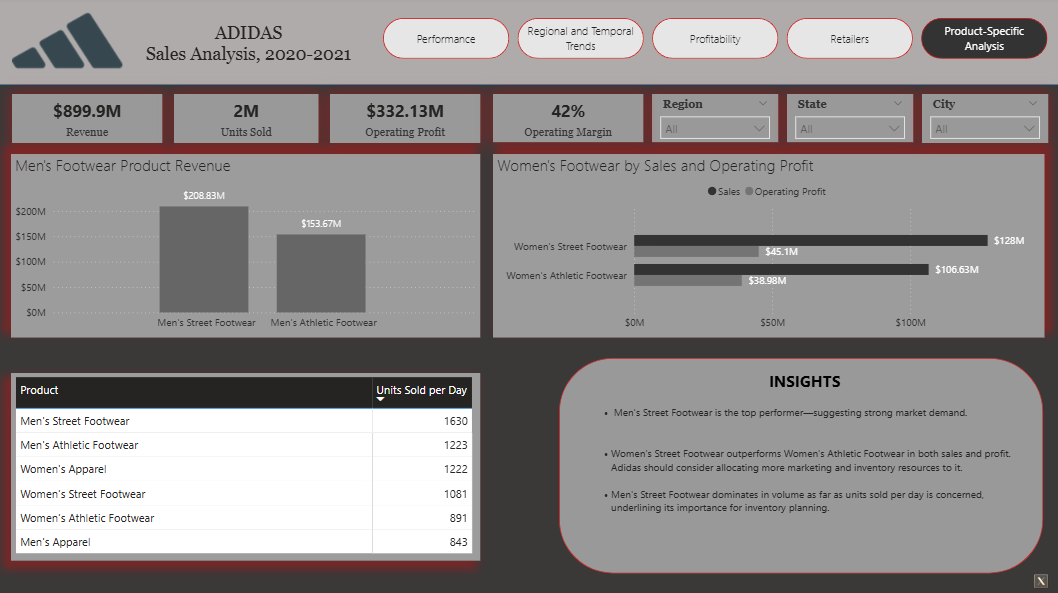

The page's visual inventory and layout, read from the dashboard file:
{"tool":"powerbi","page":{"name":"Product-Specific Analysis","canvas":[1280,720],"ordinal":4},"visuals":[{"type":"pageNavigator","box":[464.4,25.4,800.3,49.5],"z":0},{"type":"slicer","fields":{"Values":["Data.Region"]},"box":[788,116.5,151.8,58.3],"z":0,"group":"g1"},{"type":"slicer","fields":{"Values":["Data.State"]},"box":[950.4,116.5,151.8,58.3],"z":1000,"group":"g1"},{"type":"shape","box":[677.2,434.9,583.5,259.6],"z":1000,"group":"g2"},{"type":"textbox","box":[168.6,25.3,268.5,61.4],"z":2000},{"type":"slicer","fields":{"Values":["Data.City"]},"box":[1113.4,116.5,151.9,59],"z":2000,"group":"g1"},{"type":"card","fields":{"Values":["Sum(Data.Total Sales)"]},"box":[17.8,116.7,181.1,58.9],"z":3000,"group":"g1"},{"type":"clusteredColumnChart","title":"Men''s Footwear Product Revenue","fields":{"Category":["Data.Product"],"Y":["Sum(Data.Total Sales)"]},"box":[17.4,188.7,564.8,220.8],"z":3000},{"type":"card","fields":{"Values":["Sum(Data.Units Sold)"]},"box":[213.4,116.7,174.4,58.9],"z":4000,"group":"g1"},{"type":"clusteredBarChart","title":"Women''s Footwear by Sales and Operating Profit","fields":{"Category":["Data.Product"],"Y":["Sum(Data.Total Sales)","Sum(Data.Operating Profit)"]},"box":[596.9,188.7,663.8,220.8],"z":4000},{"type":"card","fields":{"Values":["Sum(Data.Operating Profit)"]},"box":[401.1,116.7,181.1,58.9],"z":5000,"group":"g1"},{"type":"textbox","box":[884.4,444.3,178,38.8],"z":5000,"group":"g2"},{"type":"tableEx","fields":{"Values":["Data.Product","Data.Units Sold average per Day"]},"box":[17.4,452.3,564.8,226.2],"z":5000},{"type":"card","fields":{"Values":["Avg(Data.Operating Margin)"]},"box":[596.3,116.5,180.9,58.3],"z":6000,"group":"g1"},{"type":"group","id":"g1","title":"Group 2","box":[17.8,116.5,1247.5,59.1],"z":7000},{"type":"group","id":"g2","title":"Group 3","box":[677.2,434.9,583.5,259.6],"z":8000},{"type":"image","box":[1233.9,687.9,45.5,32.1],"z":8001},{"type":"textbox","box":[716.7,486.1,522.6,158.7],"z":11000,"group":"g2"}]}

Visuals, with their boxes in screenshot pixels (x1, y1, x2, y2), scaled from the page's 1280x720 canvas onto the 1058x593 screenshot:
pageNavigator: [left=384, top=21, right=1045, bottom=62]
slicer - Data.Region: [left=651, top=96, right=777, bottom=144]
slicer - Data.State: [left=786, top=96, right=911, bottom=144]
shape: [left=560, top=358, right=1042, bottom=572]
textbox: [left=139, top=21, right=361, bottom=71]
slicer - Data.City: [left=920, top=96, right=1046, bottom=145]
card - Sum(Data.Total Sales): [left=15, top=96, right=164, bottom=145]
"Men''s Footwear Product Revenue" clusteredColumnChart: [left=14, top=155, right=481, bottom=337]
card - Sum(Data.Units Sold): [left=176, top=96, right=321, bottom=145]
"Women''s Footwear by Sales and Operating Profit" clusteredBarChart: [left=493, top=155, right=1042, bottom=337]
card - Sum(Data.Operating Profit): [left=332, top=96, right=481, bottom=145]
textbox: [left=731, top=366, right=878, bottom=398]
tableEx - Data.Product x Data.Units Sold average per Day: [left=14, top=373, right=481, bottom=559]
card - Avg(Data.Operating Margin): [left=493, top=96, right=642, bottom=144]
"Group 2" group: [left=15, top=96, right=1046, bottom=145]
"Group 3" group: [left=560, top=358, right=1042, bottom=572]
image: [left=1020, top=567, right=1057, bottom=592]
textbox: [left=592, top=400, right=1024, bottom=531]
